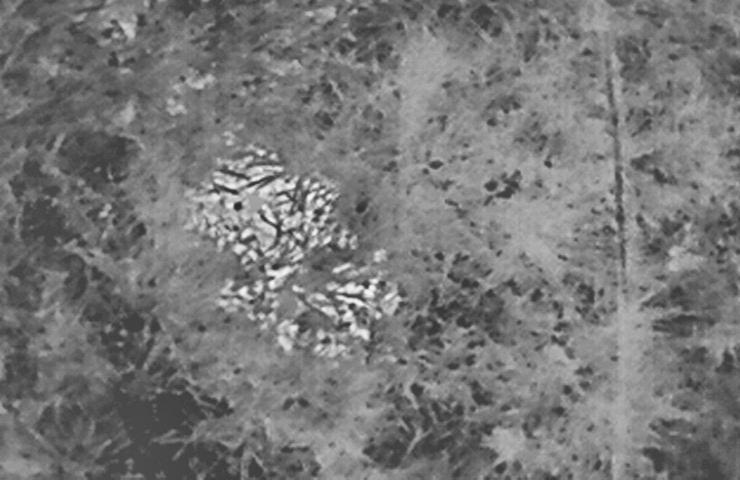landmines: (175, 138, 358, 284)
